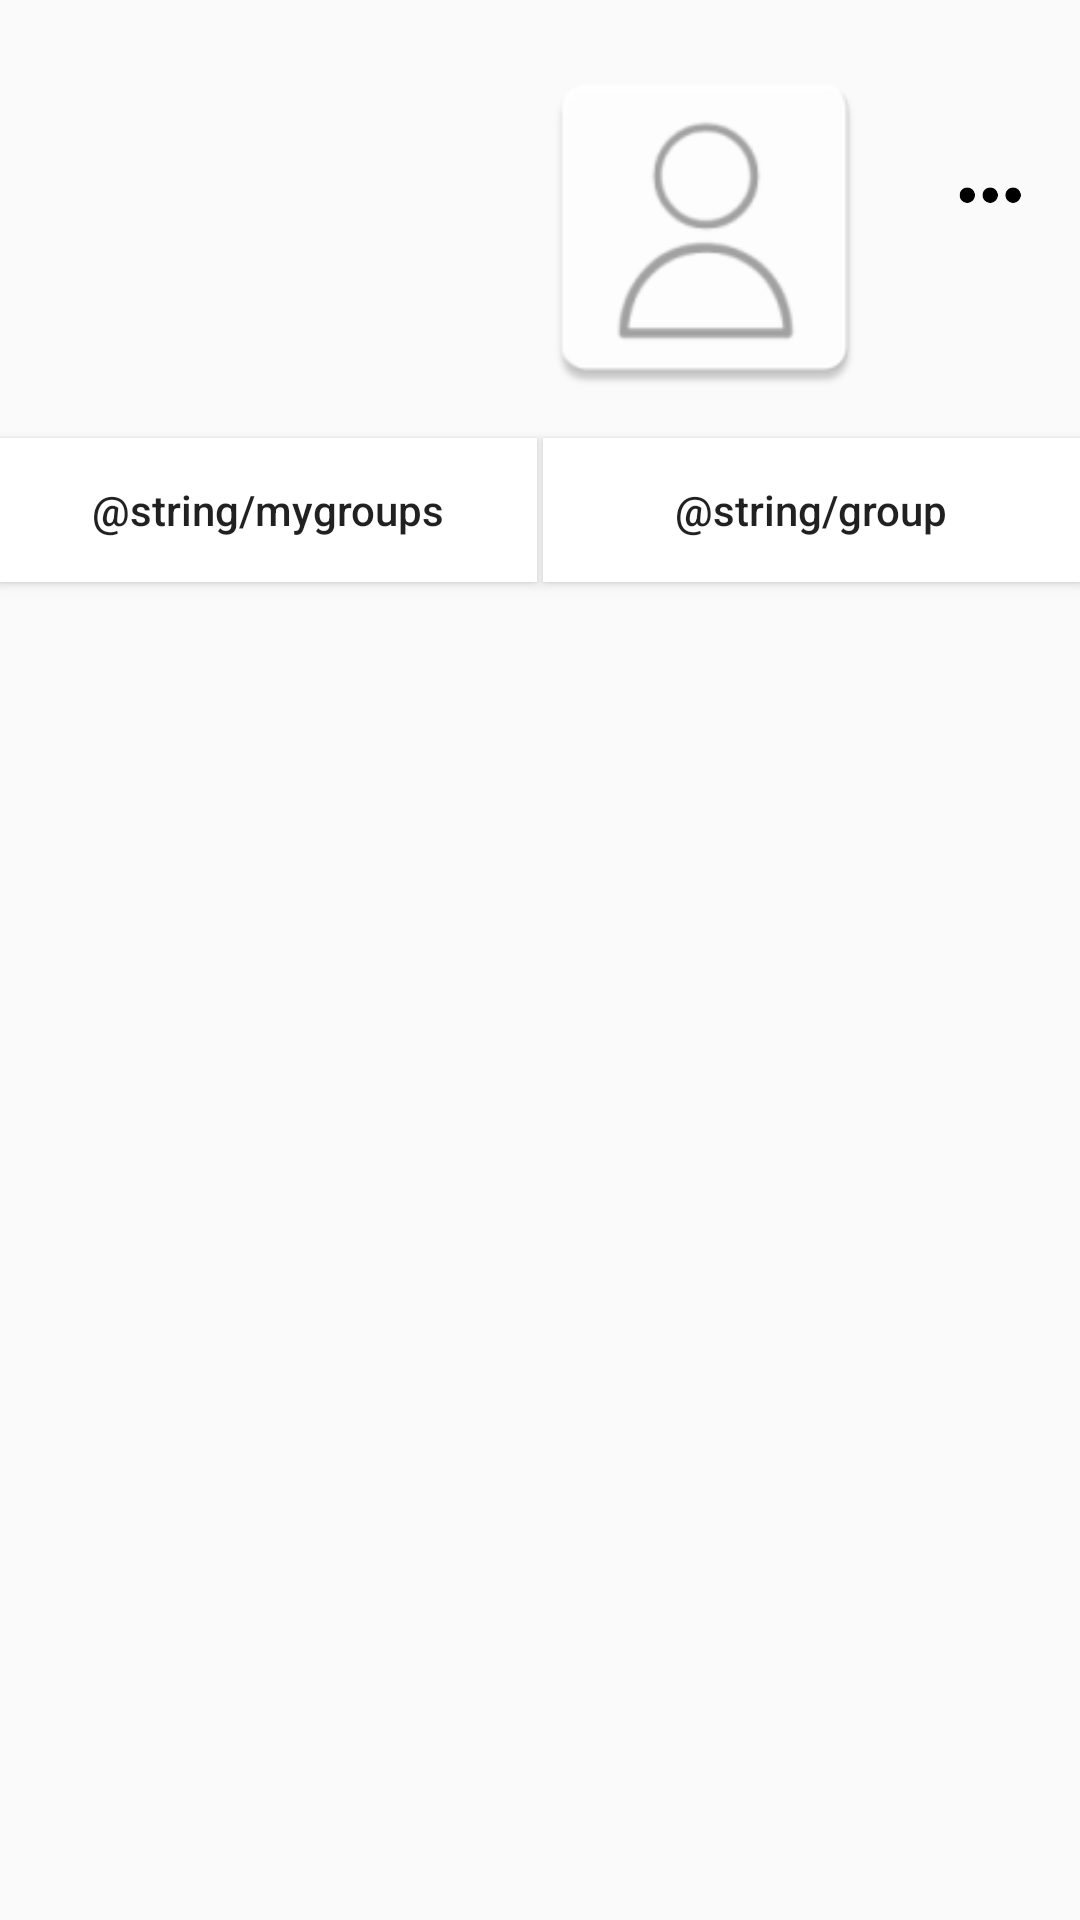

Icons on this 1080 × 1920 Android screen, each with its box as bbox=(x1, y1, x2, y2):
ellipsis: bbox=(959, 187, 1021, 203)
imageuser: bbox=(563, 102, 849, 379)
